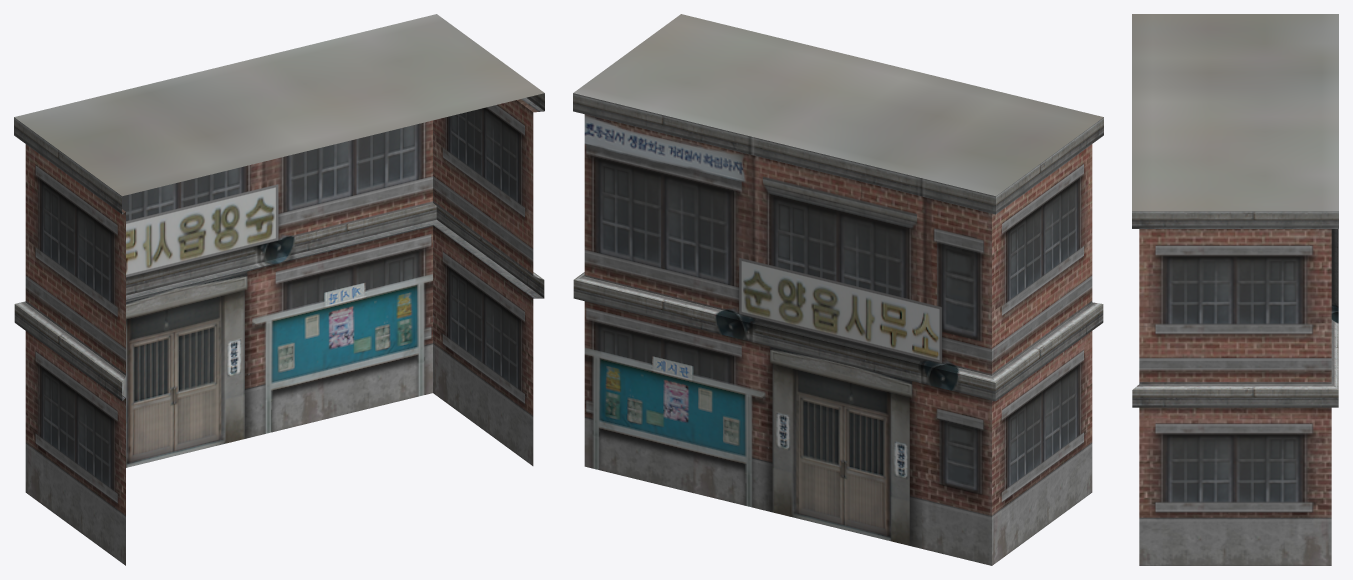
Rendered from samuso.FBX.
3 renders of one model, left to right at view 1: azimuth 30°, elevation 25°; view 2: azimuth 150°, elevation 25°; view 3: azimuth 270°, elevation 25°, orthographic. The views are drawn at different scales.
Parts seen in each view (by area): view 1: Box002; view 2: Box002; view 3: Box002.
Boxes of the visible parts, box(x1,y1,x2,y2) form: Box002: box(14, 14, 544, 565); Box002: box(573, 14, 1103, 565); Box002: box(1132, 14, 1338, 565).
Size of the model in its own units: 113 by 95.57 by 50.03.
1 material, 1 textured.
